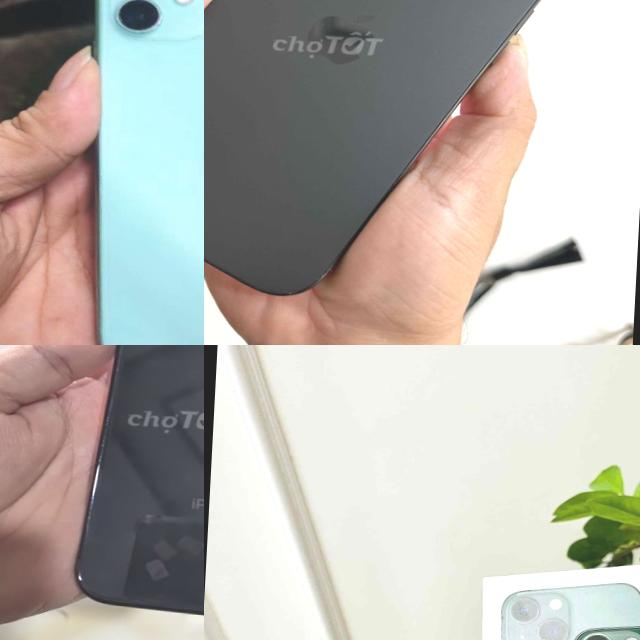scratch: (83, 357, 128, 492), (64, 566, 99, 591)
